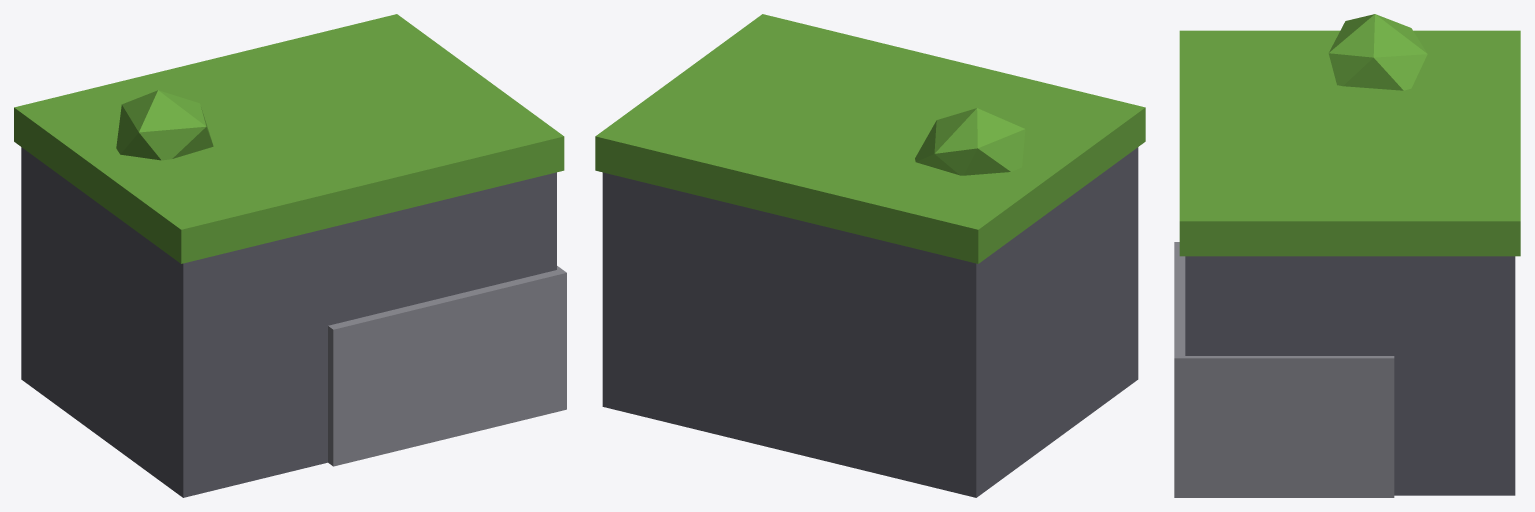
Rendered from cliff_chunk.glb.
3 renders of one model, left to right at view 1: azimuth 30°, elevation 25°; view 2: azimuth 150°, elevation 25°; view 3: azimuth 270°, elevation 25°, orthographic. The views are drawn at different scales.
Parts seen in each view (by area): view 1: cliff_chunk; view 2: cliff_chunk; view 3: cliff_chunk.
Boxes of the visible parts, x1,y1,x2,y2 form: cliff_chunk: [14, 14, 566, 497]; cliff_chunk: [595, 14, 1145, 497]; cliff_chunk: [1174, 14, 1520, 497].
Size of the model in its own units: 4.1 by 3.3 by 3.15.
